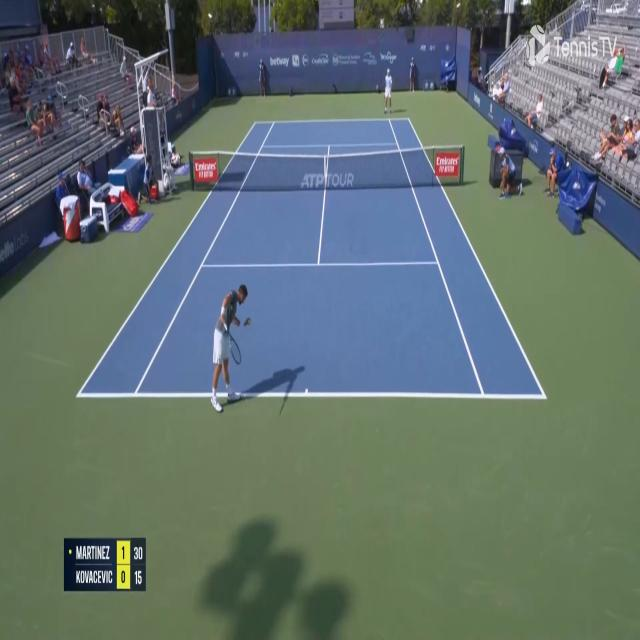tennis-player: (208, 279, 254, 416), (382, 67, 394, 114)
